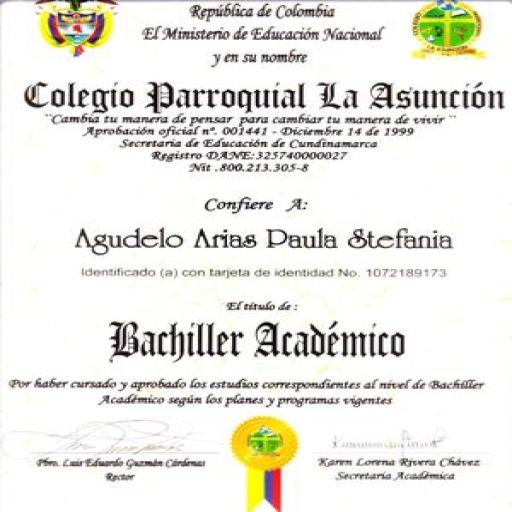bachillerato: (77, 318, 449, 367)
diploma: (0, 0, 511, 511)
escudo: (14, 0, 133, 59)
firma: (299, 414, 495, 470), (12, 417, 203, 466)
institucion: (5, 72, 510, 115)
nombre: (61, 214, 468, 258)
